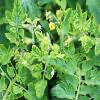Tomato leaf yellow virus: (57, 9, 73, 40), (34, 76, 49, 98), (30, 41, 43, 62), (30, 62, 44, 79), (16, 65, 28, 84), (13, 1, 23, 20), (1, 51, 14, 65), (6, 64, 15, 82), (84, 36, 93, 54), (6, 32, 19, 44), (5, 12, 16, 26), (34, 29, 46, 41), (88, 14, 95, 32), (74, 4, 83, 18), (19, 13, 29, 24), (71, 20, 84, 28)
